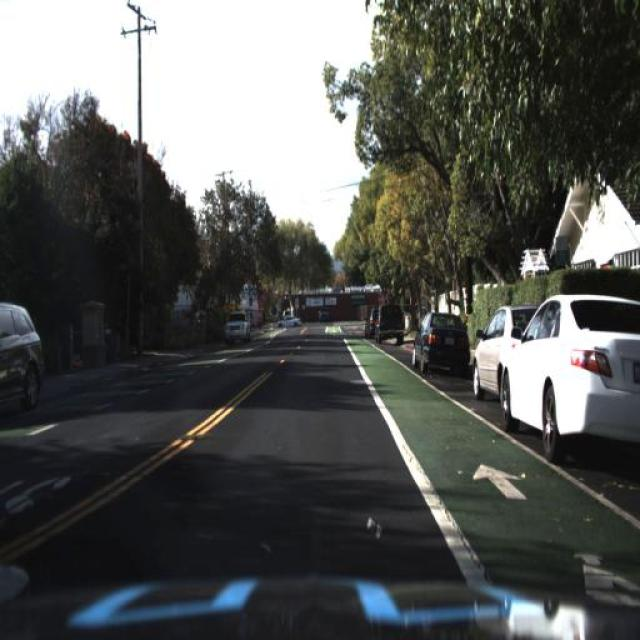car: (499, 290, 638, 454), (467, 303, 541, 403), (0, 296, 46, 422), (407, 305, 472, 381), (375, 302, 406, 343), (219, 307, 252, 344), (273, 306, 303, 330)
